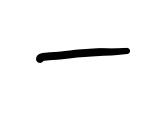minus: (37, 46, 131, 61)
